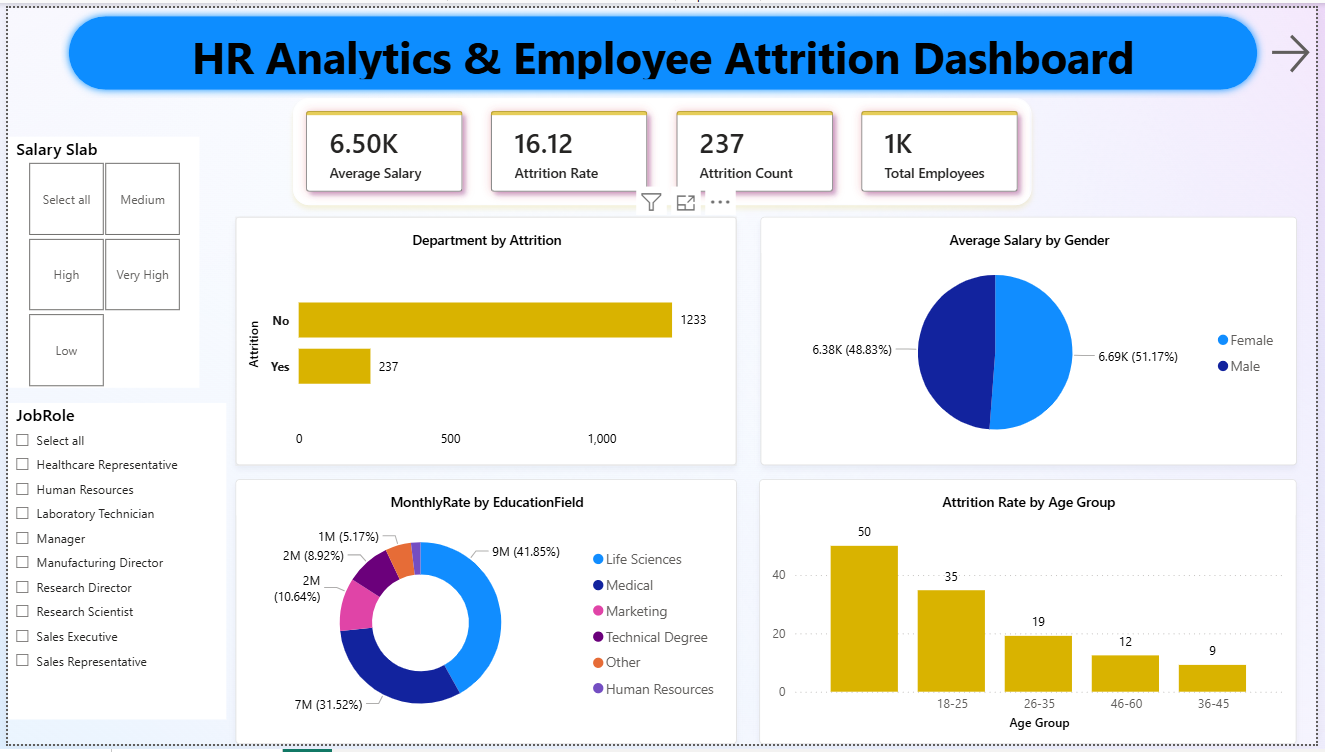

The dashboard page shown, as its layout file describes it:
{"tool":"powerbi","page":{"name":"HR Executive","canvas":[1280,720],"ordinal":0},"visuals":[{"type":"cardVisual","fields":{"Data":["Hr-Analytics.Average Salary","Hr-Analytics.Attrition Rate","Hr-Analytics.Attrition Count","Hr-Analytics.Total Employees"]},"box":[278.8,88,722.7,105.2],"z":0},{"type":"barChart","title":"Department by Attrition","fields":{"Category":["Hr-Analytics.Attrition"],"Y":["CountNonNull(Hr-Analytics.Department)"]},"box":[222.6,204.2,490.4,243.3],"z":1},{"type":"pieChart","fields":{"Category":["Hr-Analytics.Gender"],"Y":["Hr-Analytics.Average Salary"]},"box":[736.1,204.2,524.6,243.3],"z":2},{"type":"columnChart","fields":{"Category":["Hr-Analytics.Age Group"],"Y":["Hr-Analytics.Attrition Rate"]},"box":[734.9,461,525.8,259.2],"z":3},{"type":"donutChart","title":"MonthlyRate by EducationField","fields":{"Y":["Sum(Hr-Analytics.MonthlyRate)"],"Category":["Hr-Analytics.EducationField"]},"box":[222.6,461,490.4,259.2],"z":4},{"type":"slicer","fields":{"Values":["Hr-Analytics.JobRole"]},"box":[0,386.4,214,309.4],"z":5},{"type":"shape","title":"HR Analytics & Employee Attrition Dashboard","box":[51.4,0,1178.8,88],"z":6},{"type":"actionButton","box":[1230.2,20.8,50.1,47.7],"z":7},{"type":"slicer","fields":{"Values":["Hr-Analytics.Salary Slab"]},"box":[0,126,187.1,245.8],"z":8}]}

Visuals, with their boxes in screenshot pixels (x1, y1, x2, y2), scaled from the page's 1280x720 canvas onto the 1325x752 screenshot:
cardVisual - Hr-Analytics.Average Salary x Hr-Analytics.Attrition Rate: Rect(289, 92, 1037, 202)
"Department by Attrition" barChart: Rect(230, 213, 738, 467)
pieChart - Hr-Analytics.Gender x Hr-Analytics.Average Salary: Rect(762, 213, 1305, 467)
columnChart - Hr-Analytics.Age Group x Hr-Analytics.Attrition Rate: Rect(761, 481, 1305, 751)
"MonthlyRate by EducationField" donutChart: Rect(230, 481, 738, 751)
slicer - Hr-Analytics.JobRole: Rect(0, 404, 222, 727)
"HR Analytics & Employee Attrition Dashboard" shape: Rect(53, 0, 1273, 92)
actionButton: Rect(1273, 22, 1324, 72)
slicer - Hr-Analytics.Salary Slab: Rect(0, 132, 194, 388)
